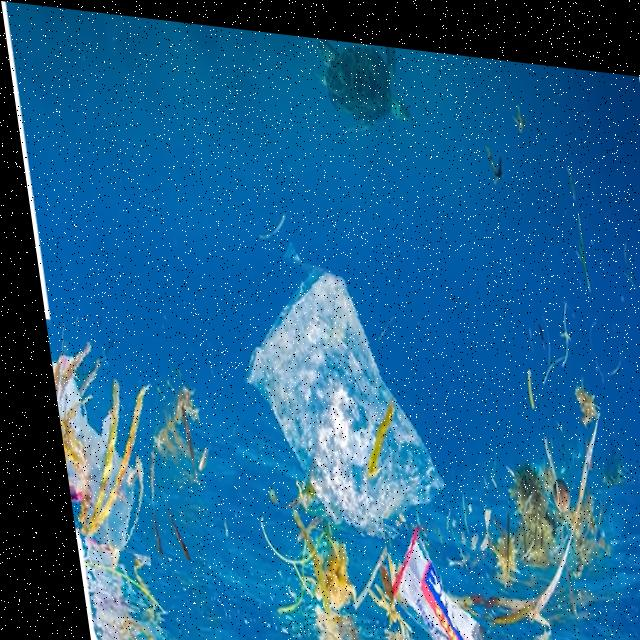plasticcover: (202, 245, 474, 540), (35, 317, 183, 557), (367, 509, 487, 640)
